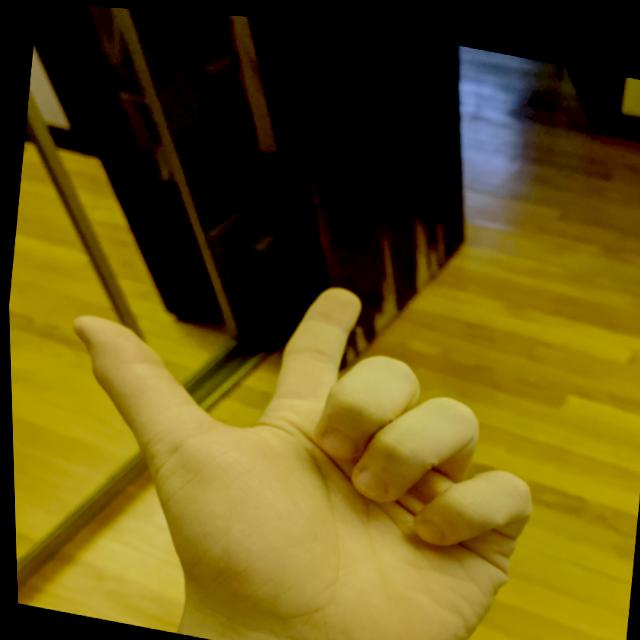L: (22, 221, 570, 639)
